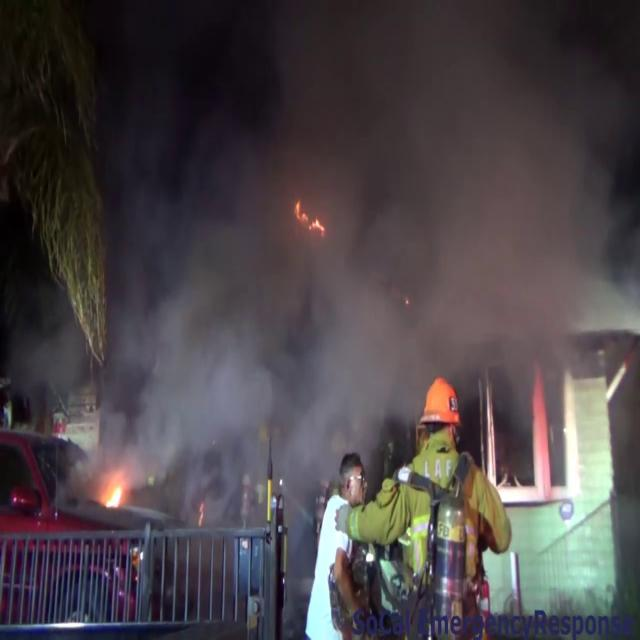Fire: (98, 462, 128, 514)
Smoke: (92, 0, 636, 418)
